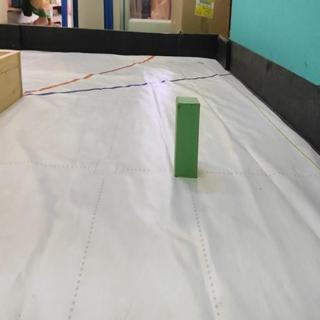greenbox: (175, 94, 200, 177)
